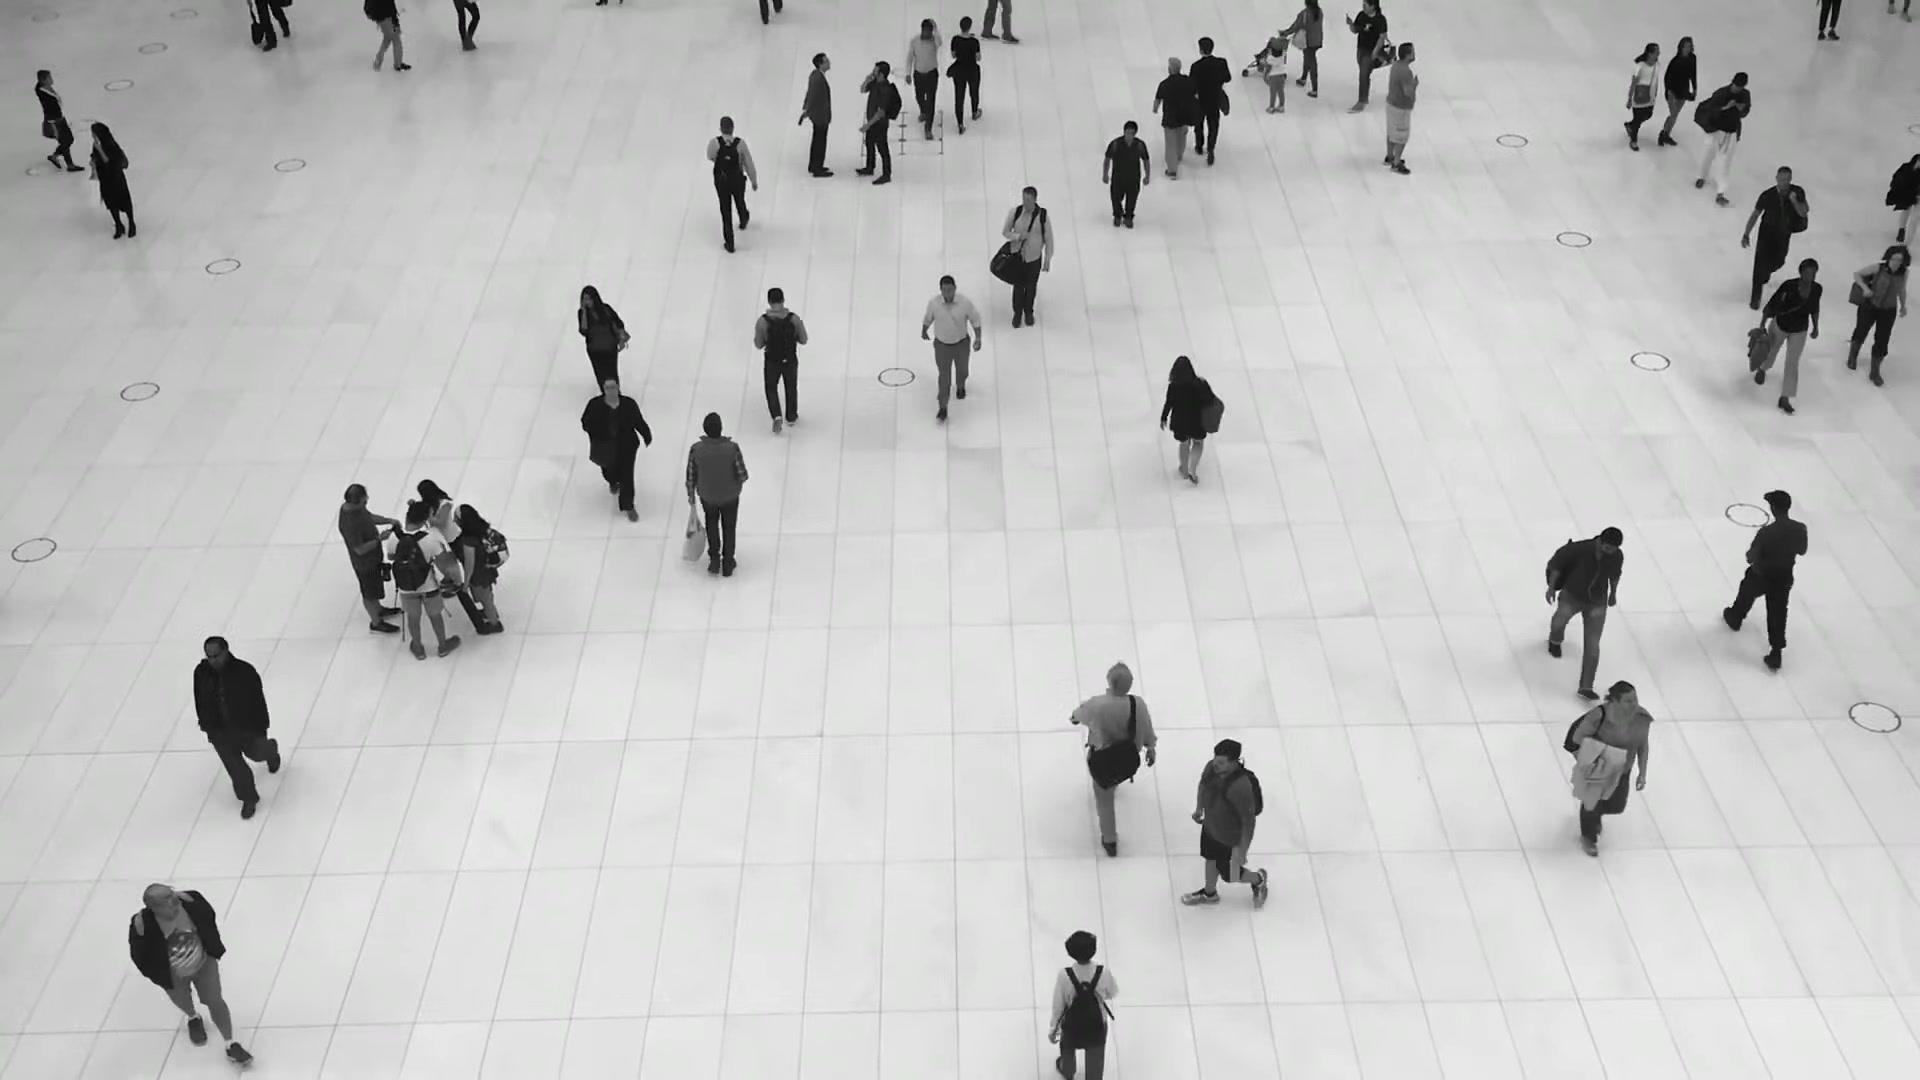person: (127, 882, 253, 1065), (1071, 661, 1157, 857), (1563, 682, 1655, 858), (193, 636, 279, 820), (1180, 738, 1268, 909), (1727, 485, 1810, 654), (1545, 525, 1624, 699), (384, 502, 460, 660), (1754, 254, 1825, 414), (1048, 929, 1121, 1080), (683, 411, 749, 576), (580, 373, 652, 523), (1741, 165, 1810, 310), (337, 482, 400, 634), (1845, 245, 1911, 386), (921, 272, 981, 421), (752, 287, 807, 433), (1162, 357, 1220, 493), (1694, 71, 1752, 207), (1001, 185, 1054, 328), (706, 113, 758, 253), (454, 503, 507, 635), (1152, 56, 1200, 179), (576, 284, 630, 391), (32, 70, 88, 173), (1100, 119, 1151, 229), (1188, 36, 1231, 165), (855, 60, 900, 185), (90, 120, 136, 240), (416, 478, 459, 598), (1382, 41, 1420, 175), (1652, 36, 1697, 147), (1344, 0, 1387, 111), (904, 16, 943, 137), (798, 52, 834, 177), (1623, 42, 1663, 151), (950, 15, 982, 134), (1284, 0, 1323, 97), (1262, 35, 1287, 113)
